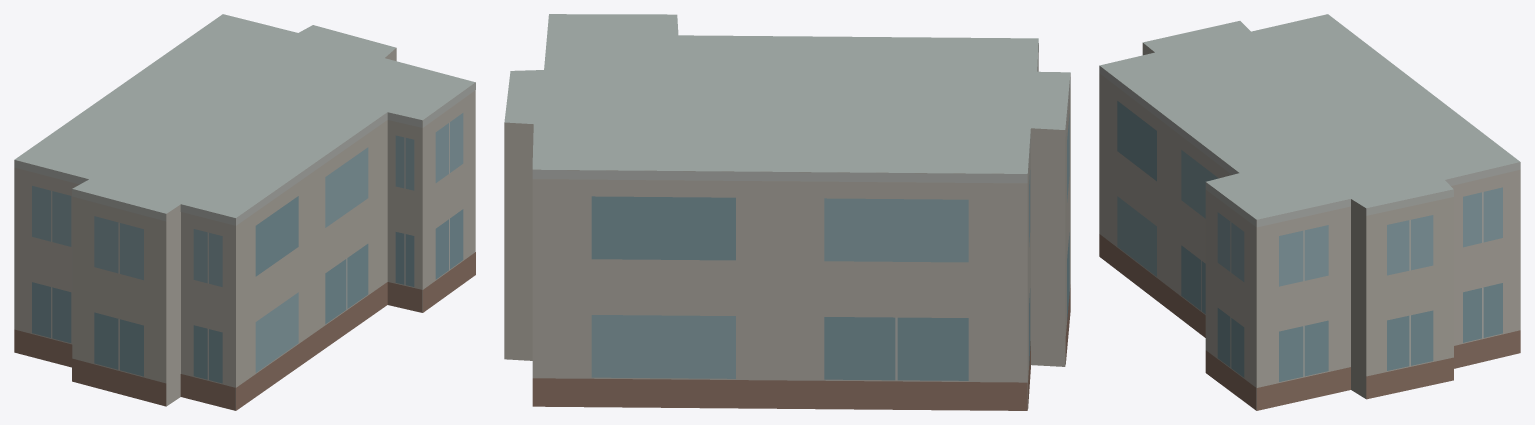
File: survey-upis-33012719.glb
3 views of the same model, side by side, from view 1: azimuth 30°, elevation 25°; view 2: azimuth 150°, elevation 25°; view 3: azimuth 270°, elevation 25° (orthographic). The views are drawn at different scales.
Parts seen in each view (by area): view 1: survey-upis-33012719.tmp; view 2: survey-upis-33012719.tmp; view 3: survey-upis-33012719.tmp.
Boxes of the visible parts, x1,y1,x2,y2 form: survey-upis-33012719.tmp: (14,14,475,410); survey-upis-33012719.tmp: (504,14,1070,410); survey-upis-33012719.tmp: (1099,14,1520,410).
Bounding box in the file's own units: 14.11 × 6.1 × 12.2.
